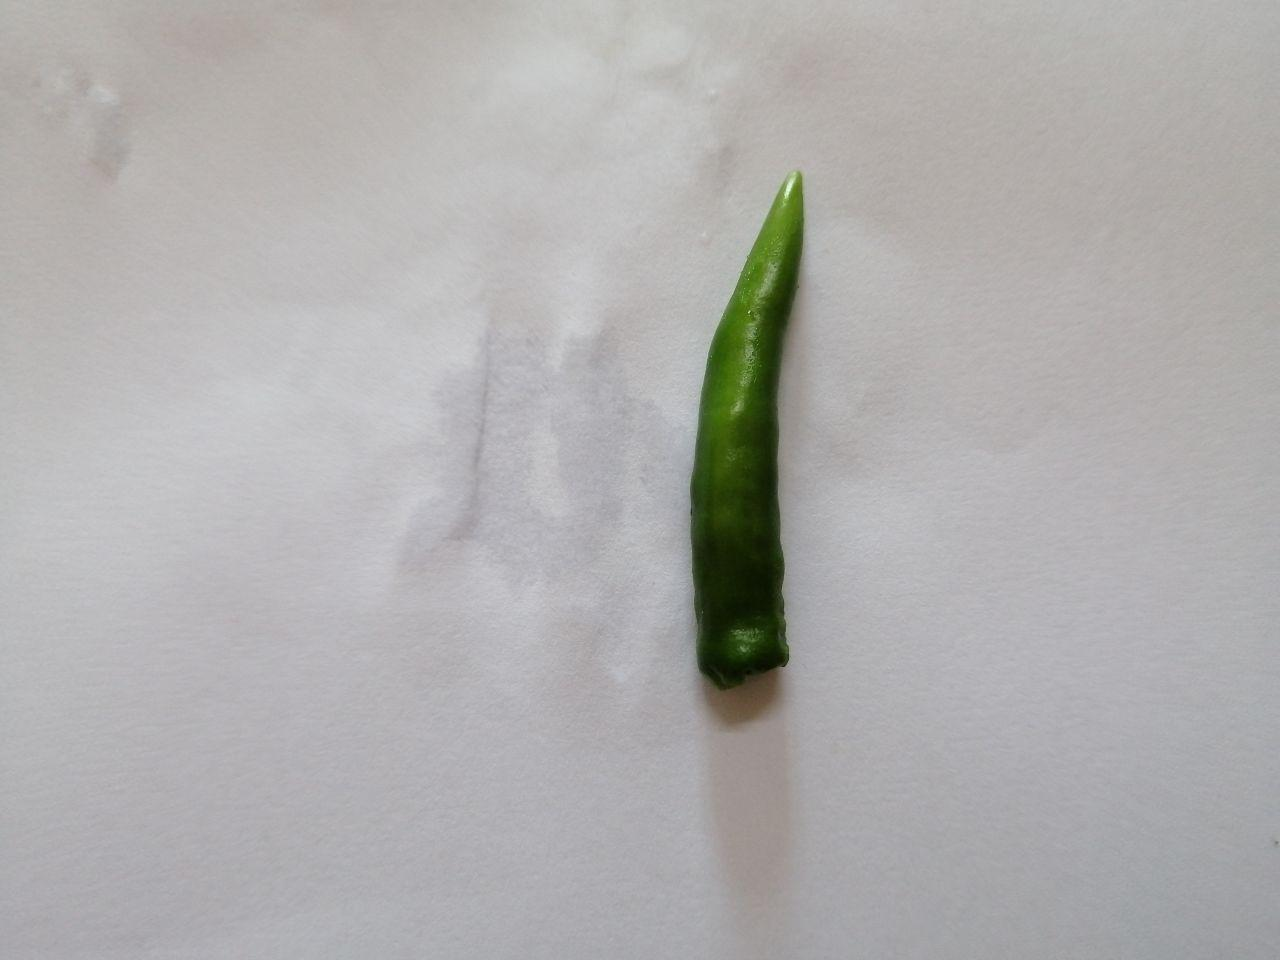lada hijau: (672, 111, 856, 709)
